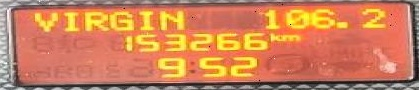-: (333, 19, 350, 30)
0: (282, 7, 307, 29)
1: (260, 7, 281, 29), (122, 33, 134, 52)
2: (227, 54, 257, 76), (357, 7, 387, 28), (187, 32, 212, 50)
3: (161, 32, 184, 51)
5: (196, 55, 227, 77), (133, 32, 158, 51)
6: (308, 8, 333, 28), (241, 31, 267, 50), (213, 31, 238, 50)
9: (152, 55, 182, 79)
X: (156, 9, 185, 30), (29, 10, 57, 31), (80, 10, 106, 31), (107, 10, 132, 31), (60, 9, 78, 32), (135, 10, 153, 31), (267, 30, 281, 41), (281, 34, 300, 41)
